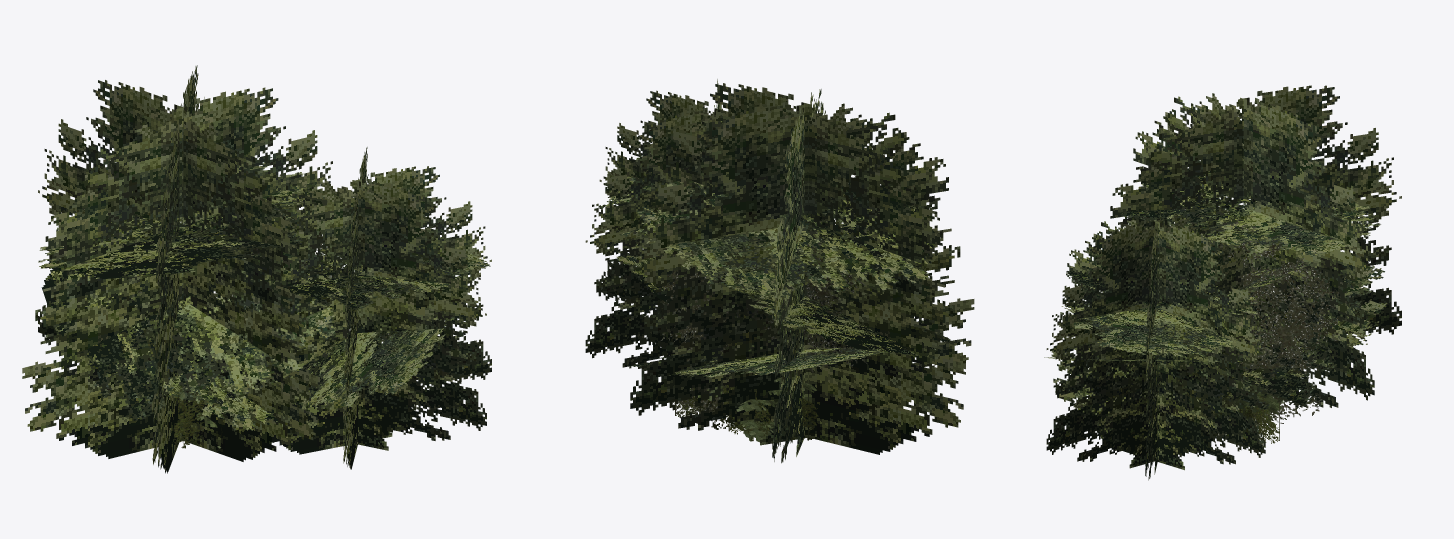
Rendered from low_poly_vegetation_patch.glb.
The picture shows the model from 3 angles, left to right: view 1: azimuth 30°, elevation 25°; view 2: azimuth 150°, elevation 25°; view 3: azimuth 270°, elevation 25°; orthographic projection. The views are drawn at different scales.
Visible parts, largest first — view 1: vp_tree_a, vp_bush_c; view 2: vp_tree_a, vp_tree_b, vp_bush_c, vp_bush_a; view 3: vp_tree_a, vp_tree_b, vp_bush_c, vp_bush_a.
Boxes of the visible parts, x1,y1,x2,y2 form: vp_tree_a: [22, 65, 491, 473]; vp_bush_c: [161, 386, 222, 448]; vp_tree_a: [585, 79, 974, 463]; vp_tree_b: [649, 221, 867, 421]; vp_bush_c: [675, 348, 818, 441]; vp_bush_a: [694, 340, 816, 442]; vp_tree_a: [1044, 85, 1401, 480]; vp_tree_b: [1157, 219, 1340, 426]; vp_bush_c: [1211, 374, 1279, 447]; vp_bush_a: [1213, 339, 1290, 418].
Bounding box in the file's own units: 12.3 × 9.52 × 11.3.
Materials: 6 (6 with a texture image).
